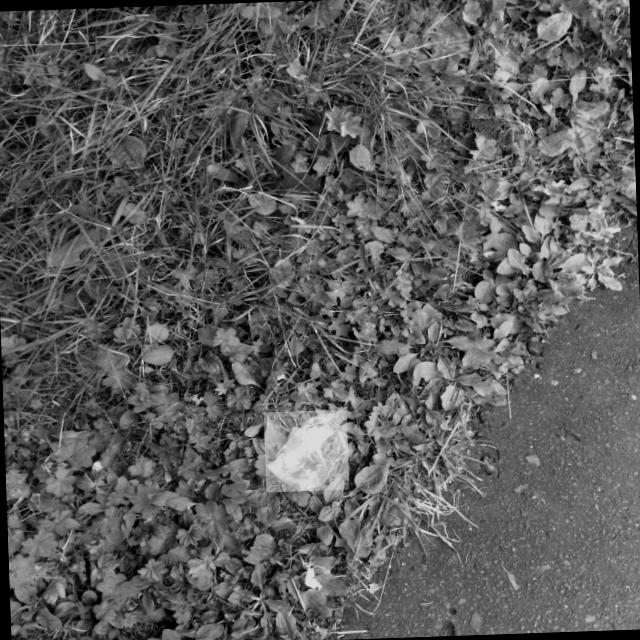Plastic film: (266, 410, 347, 491)
